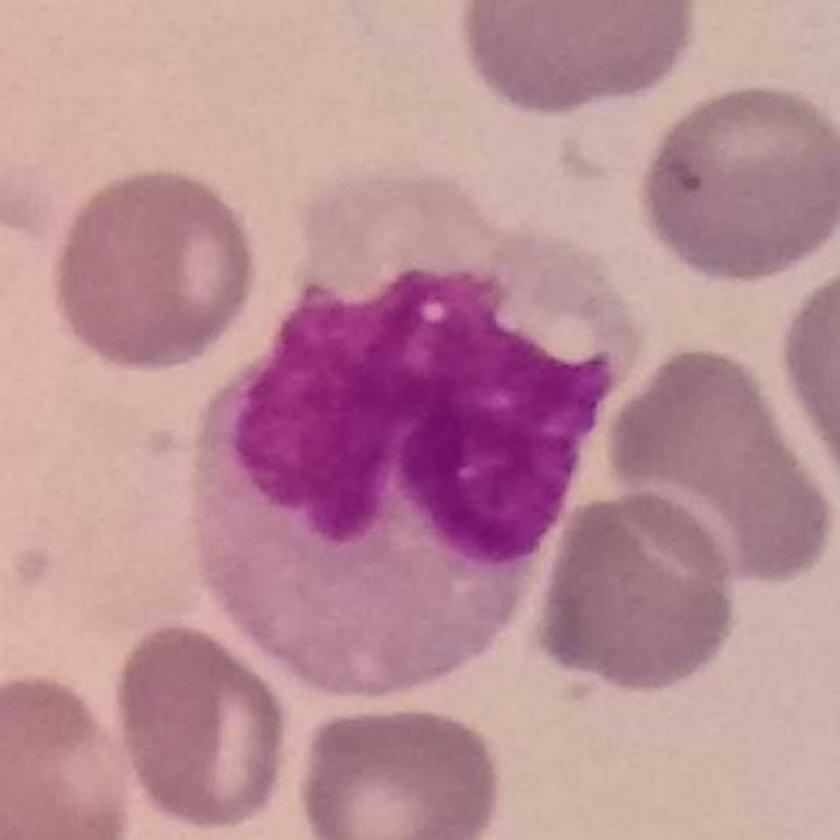monocyte: (195, 170, 651, 694)
